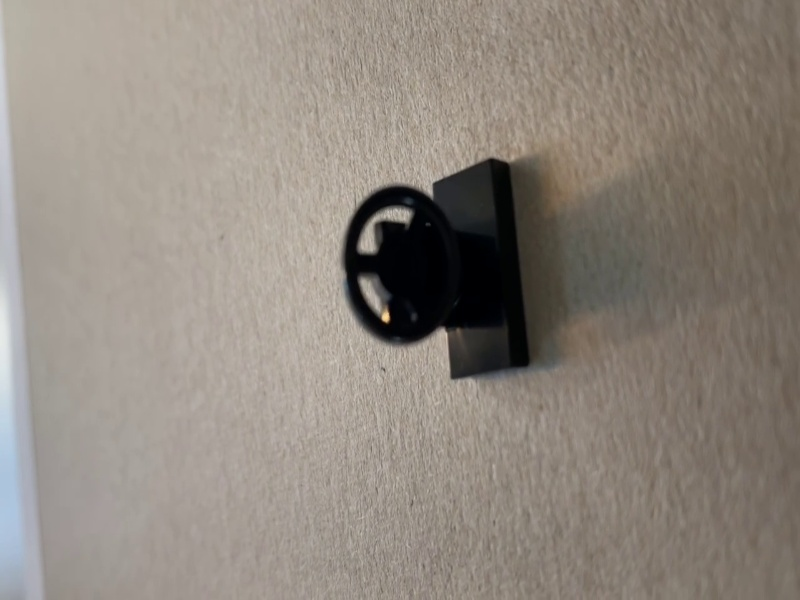tire: (342, 157, 533, 383)
